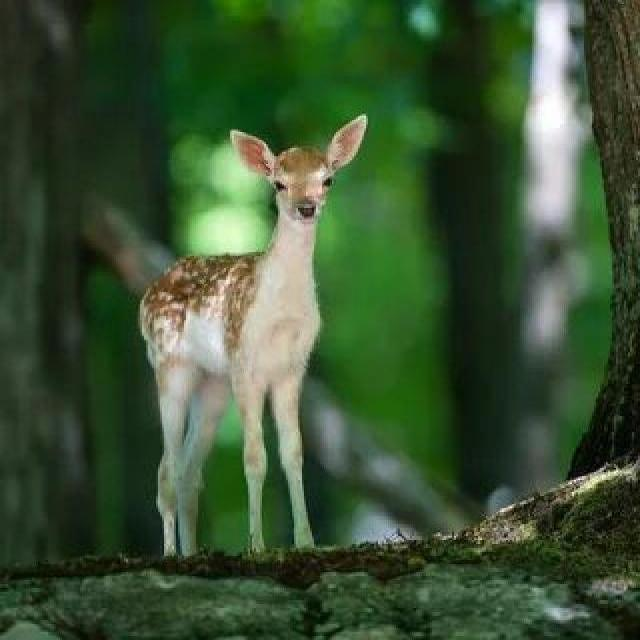deer: (121, 85, 374, 580)
